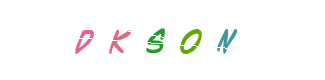D: (61, 0, 141, 80)
K: (122, 0, 202, 80)
N: (184, 0, 264, 80)
O: (150, 0, 230, 80)
S: (135, 0, 215, 80)
